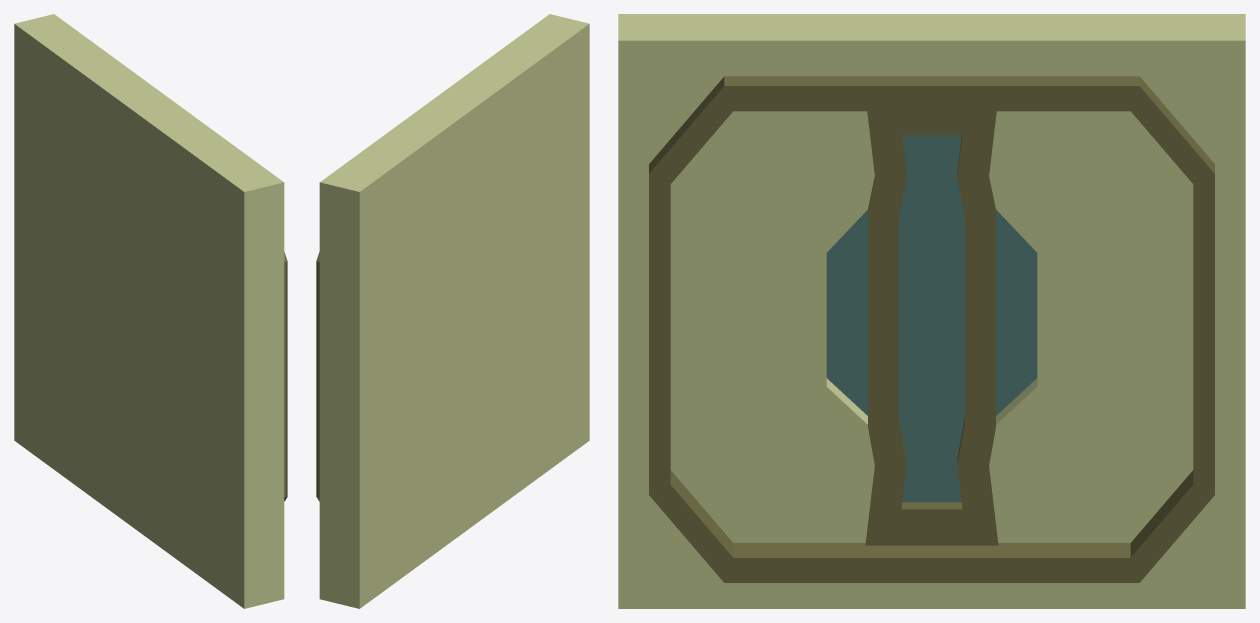
File: modularWall-Set2.fbx
3 views of the same model, side by side, from view 1: azimuth 30°, elevation 25°; view 2: azimuth 150°, elevation 25°; view 3: azimuth 270°, elevation 25° (orthographic). The views are drawn at different scales.
Parts seen in each view (by area): view 1: Cube.001; view 2: Cube.001; view 3: Cube.001.
Part boxes in pixels (bbox=[...]): Cube.001: bbox=[14, 14, 287, 608]; Cube.001: bbox=[316, 14, 589, 608]; Cube.001: bbox=[618, 14, 1245, 608].
Bounding box in the file's own units: 68.47 × 500 × 500.
